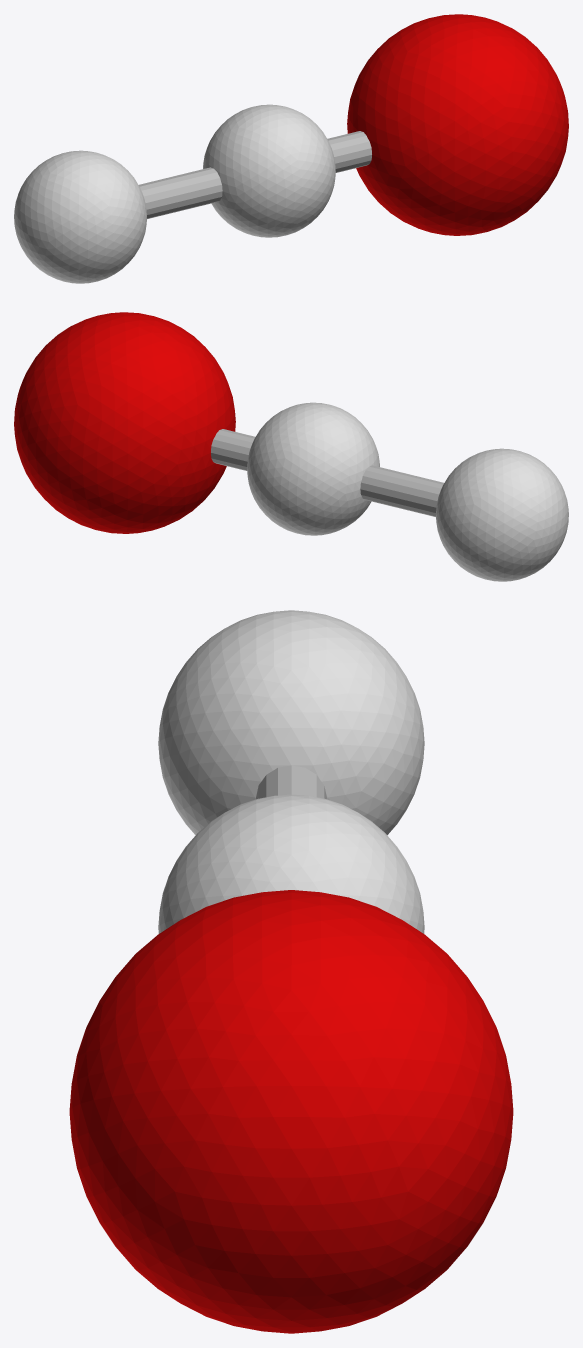
The picture shows the model from 3 angles, top to bottom: view 1: azimuth 30°, elevation 25°; view 2: azimuth 150°, elevation 25°; view 3: azimuth 270°, elevation 25°; orthographic projection. The views are drawn at different scales.
Visible parts, largest first — view 1: world; view 2: world; view 3: world.
Part boxes in pixels (x1=…): world: x1=14, y1=14, x2=568, y2=283; world: x1=14, y1=312, x2=568, y2=581; world: x1=69, y1=610, x2=513, y2=1333.
Size of the model in its own units: 1.38 by 0.5 by 0.5.
